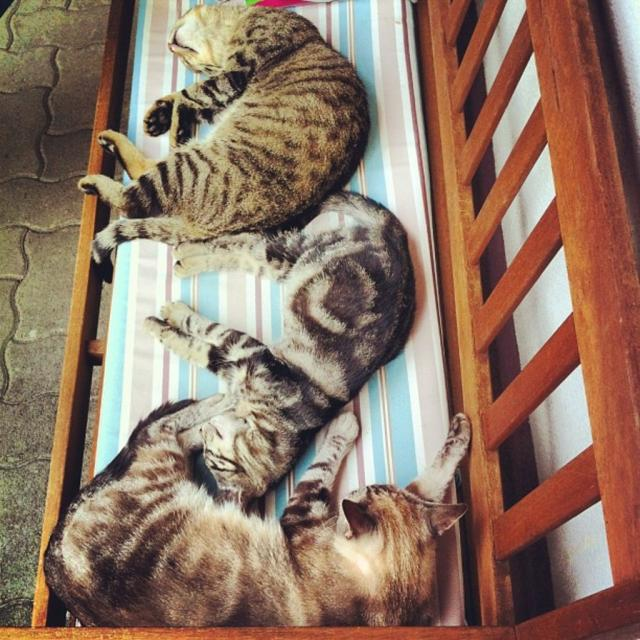Cat: (40, 388, 470, 623), (141, 184, 417, 506), (74, 0, 370, 282)
